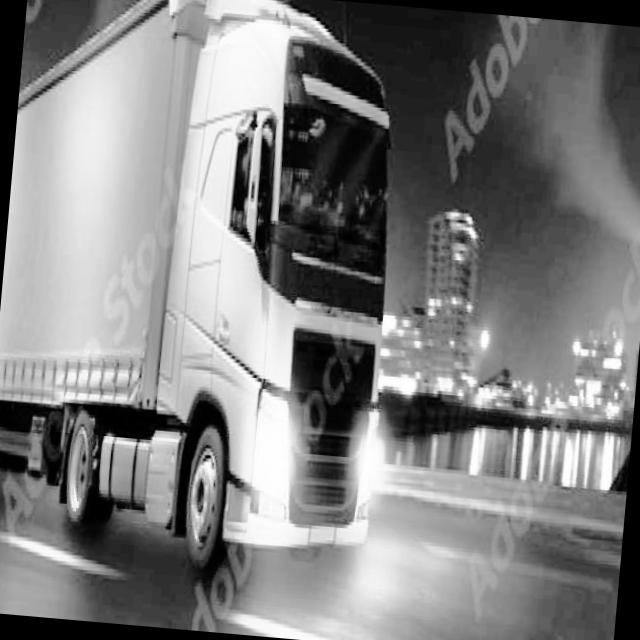Truck: (0, 0, 413, 583)
